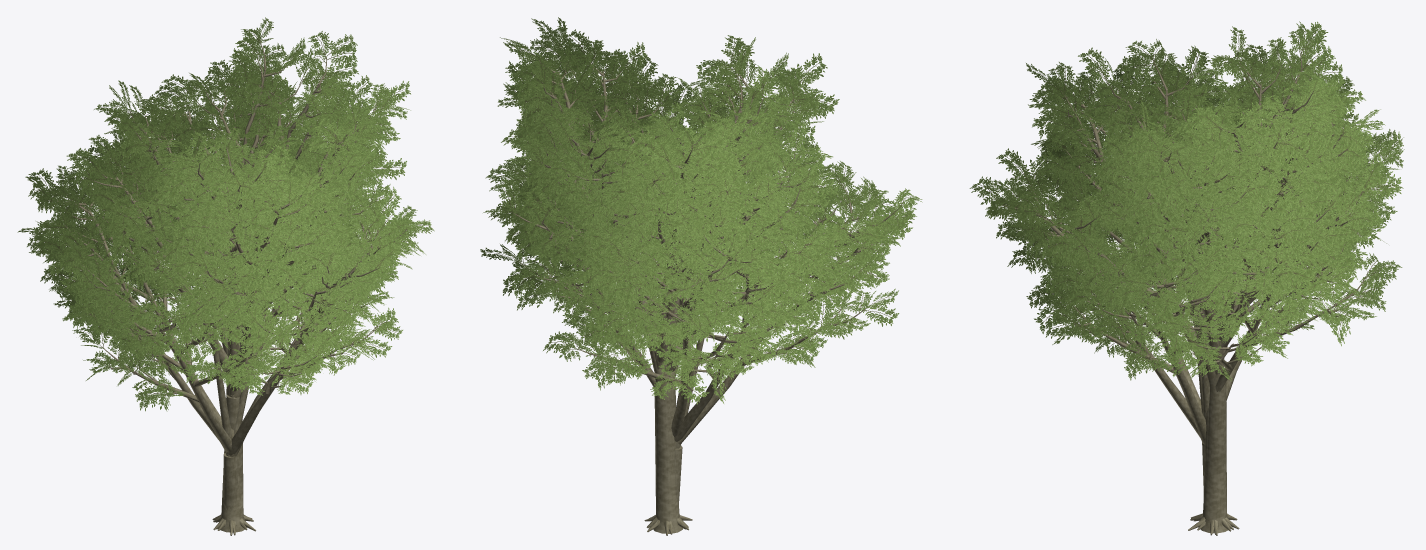
Rendered from zelkova.glb.
3 views of the same model, side by side, from view 1: azimuth 30°, elevation 25°; view 2: azimuth 150°, elevation 25°; view 3: azimuth 270°, elevation 25° (orthographic). The views are drawn at different scales.
Visible parts, largest first — view 1: foliage.004, foliage.005, foliage.003, wood.004, wood.005, wood.003; view 2: foliage.004, foliage.005, foliage.003, wood.004, wood.005, wood.003; view 3: foliage.004, foliage.005, foliage.003, wood.004, wood.005, wood.003.
Part boxes in pixels (x1,y1,x2,y2): foliage.004: (17,95,434,411); foliage.005: (94,17,396,297); foliage.003: (62,59,410,345); wood.004: (50,165,407,529); wood.005: (130,40,362,535); wood.003: (92,83,381,535); foliage.004: (480,76,922,404); foliage.005: (497,29,800,301); foliage.003: (498,17,839,304); wood.004: (513,101,898,529); wood.005: (533,54,767,535); wood.003: (534,46,805,534); foliage.004: (969,57,1404,381); foliage.005: (1078,21,1370,305); foliage.003: (1026,39,1385,309); wood.004: (1002,91,1377,535); wood.005: (1109,54,1322,534); wood.003: (1061,80,1358,535).
Size of the model in its own units: 14.65 by 17.2 by 14.16.
2 materials, 2 textured.
